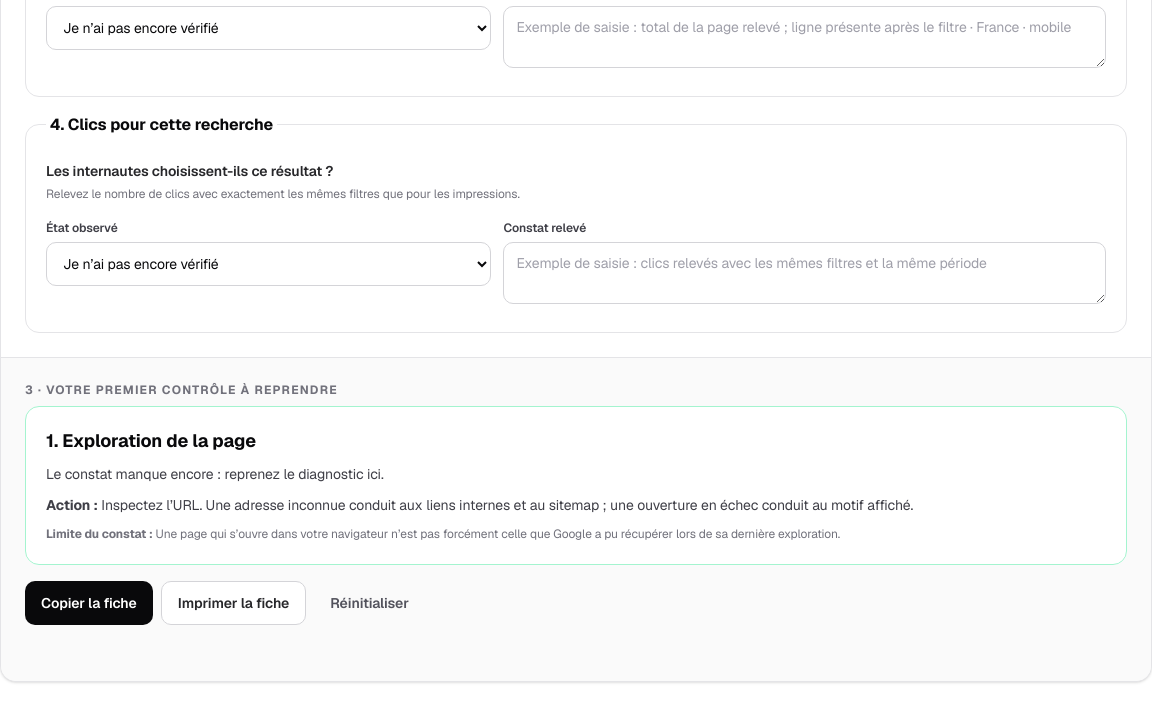
Test: SearchVisibilityDiagnostic › explains a clipboard failure without clearing the sheet
The width and height of the screenshot is (1152, 714).
(page scrolled)
Click the button "Copier la fiche".
click(89, 603)  # box left=25, top=581, right=153, bottom=625
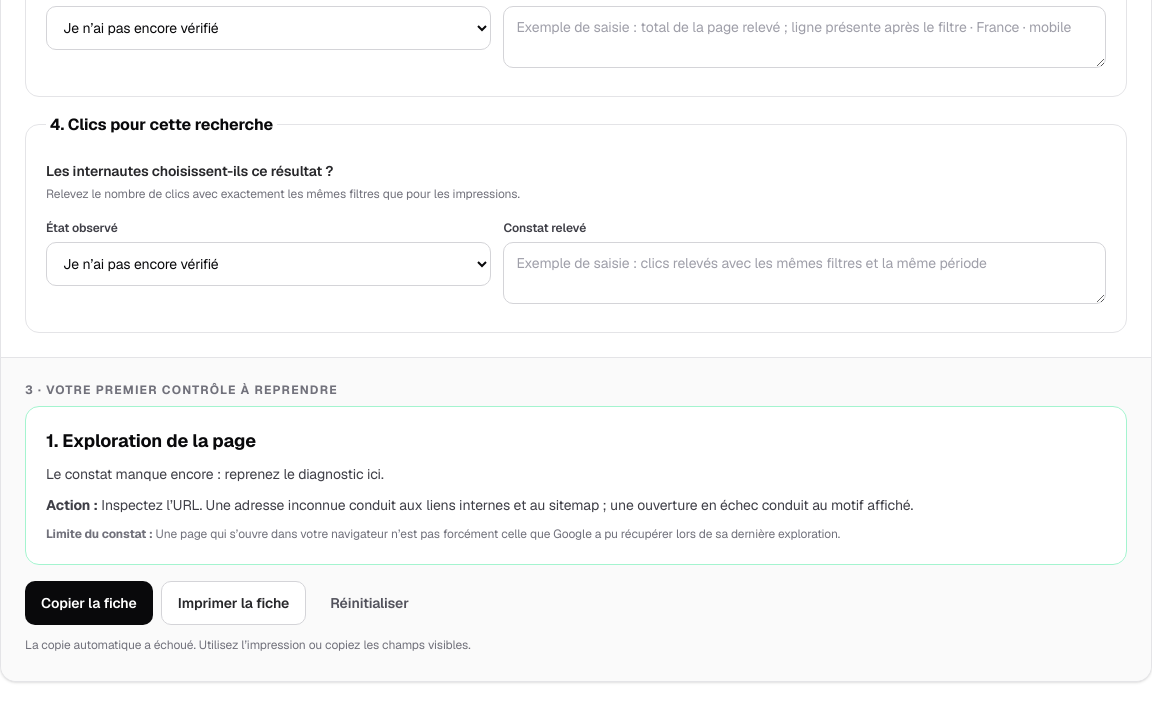
expect the text "La copie automatique a échoué" is shown: met, box left=25, top=637, right=471, bottom=653
